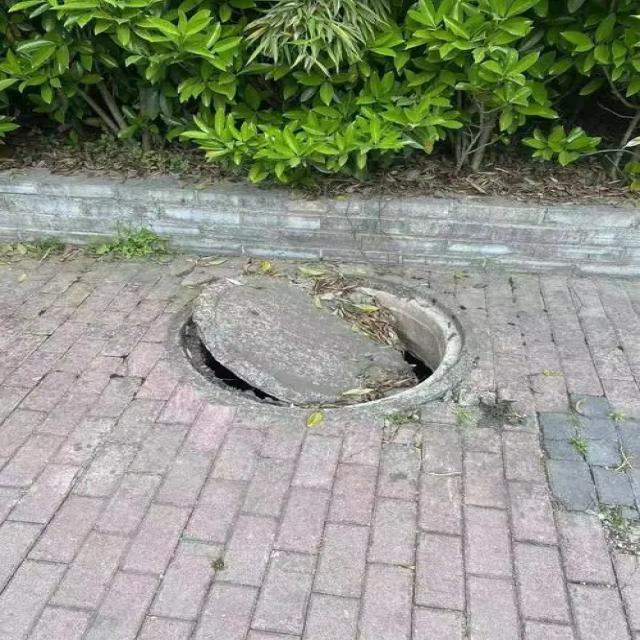manhole: (172, 259, 470, 417)
